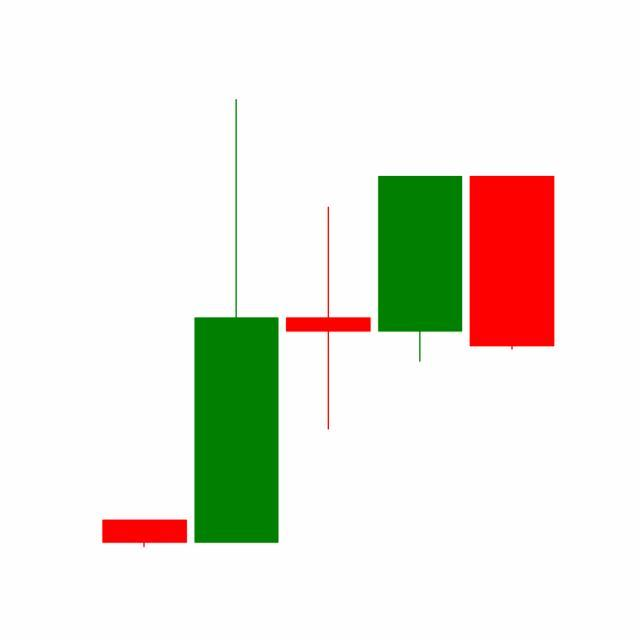Marubozu: (466, 175, 559, 353)
